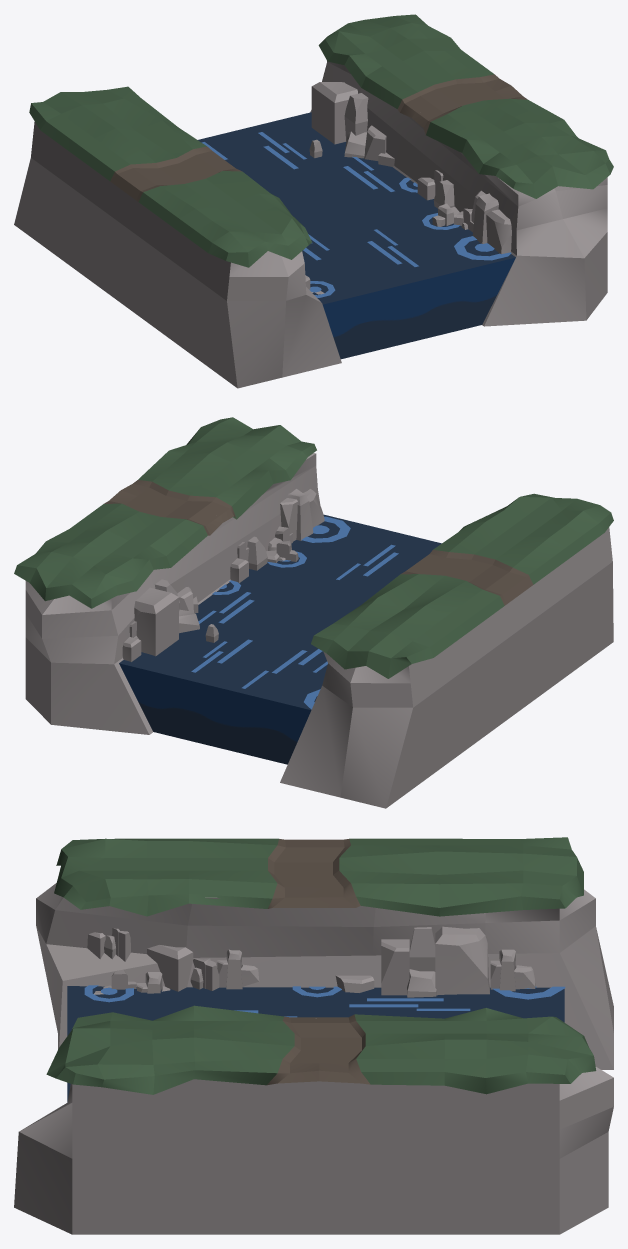
3 renders of one model, top to bottom at view 1: azimuth 30°, elevation 25°; view 2: azimuth 150°, elevation 25°; view 3: azimuth 270°, elevation 25°, orthographic. The views are drawn at different scales.
Parts seen in each view (by area): view 1: Environment1; view 2: Environment1; view 3: Environment1.
Boxes of the visible parts, left/top/right/bottom form: Environment1: left=14, top=14, right=613, bottom=388; Environment1: left=14, top=417, right=613, bottom=808; Environment1: left=14, top=837, right=613, bottom=1234.
Size of the model in its own units: 2408 by 820 by 2525.
Materials: 1 (1 with a texture image).
